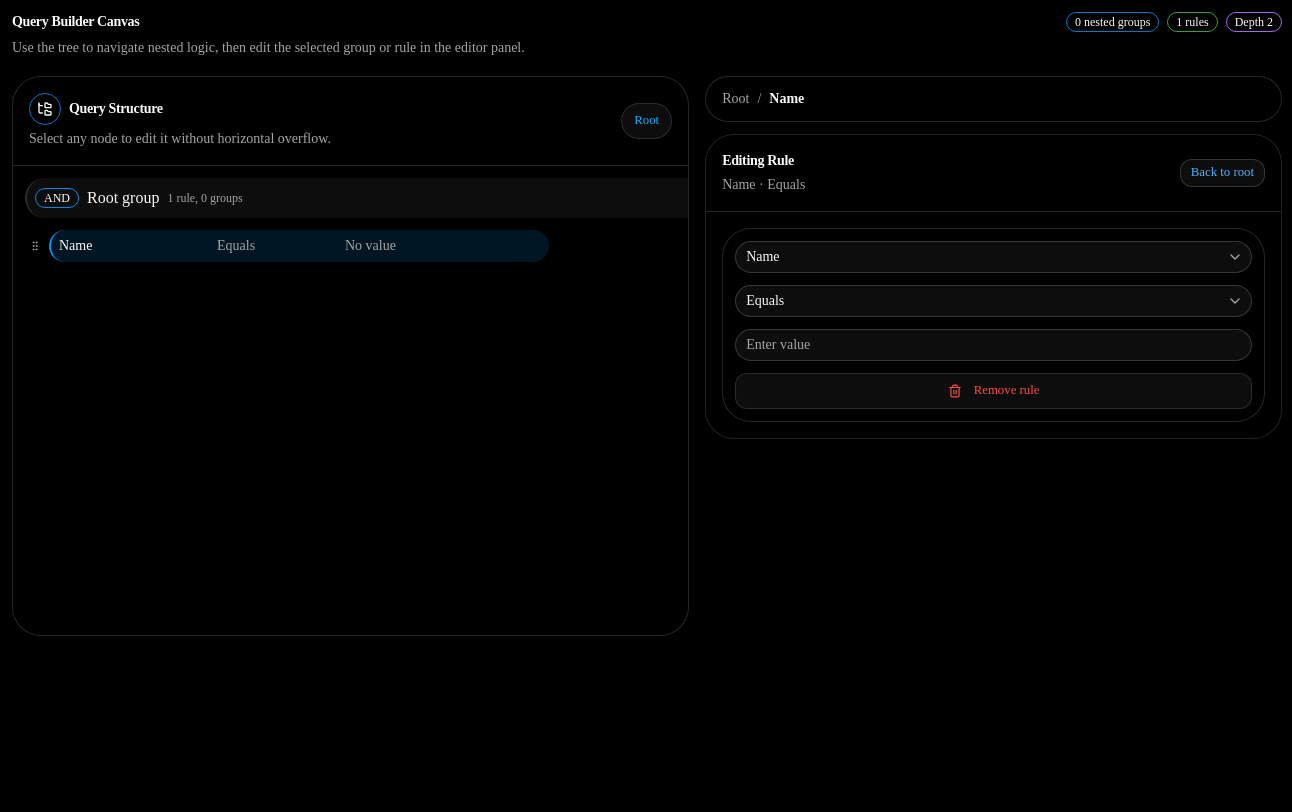
it: QueryBuilder › adds a rule through the root group action
Click the button "Back to root" at (1222, 173), box x1=1180 y1=159 x2=1265 y2=187
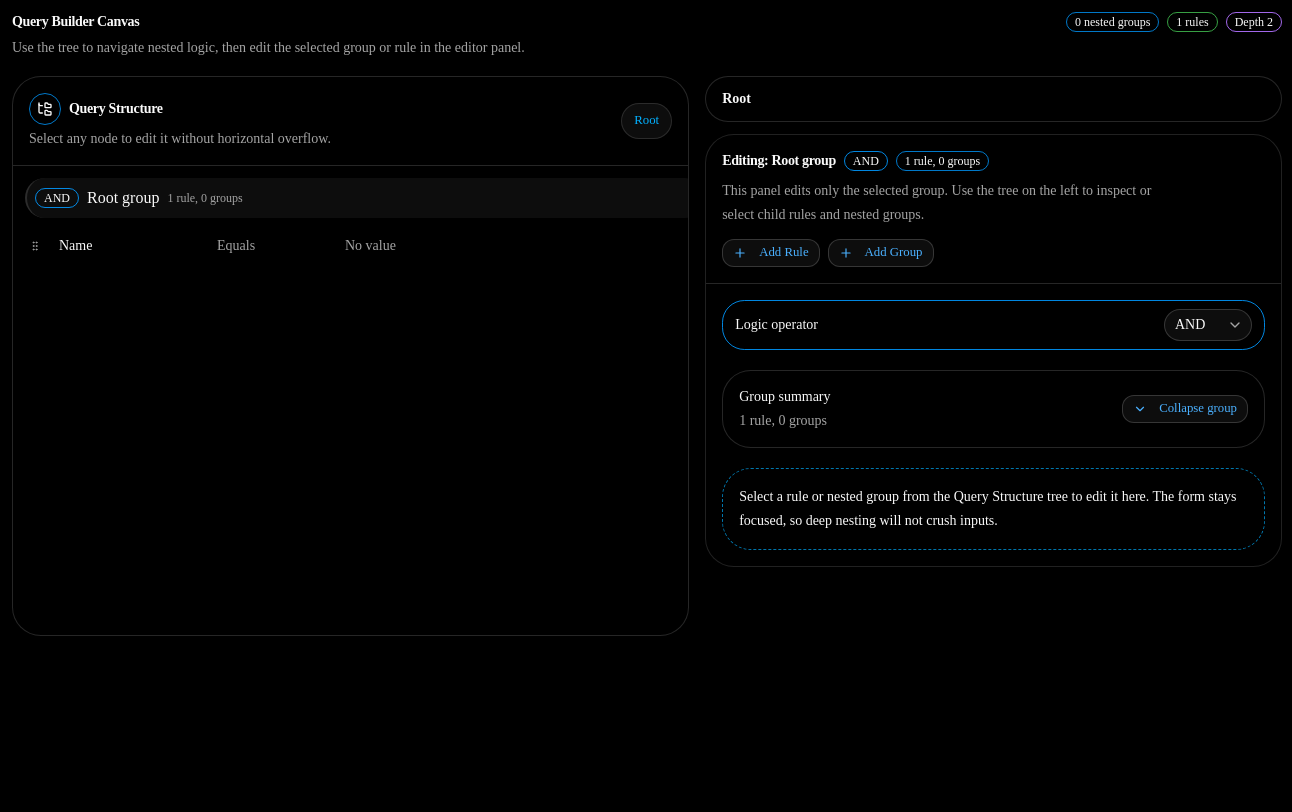
Click the button "Add Rule" at (771, 253), box x1=722 y1=239 x2=820 y2=267
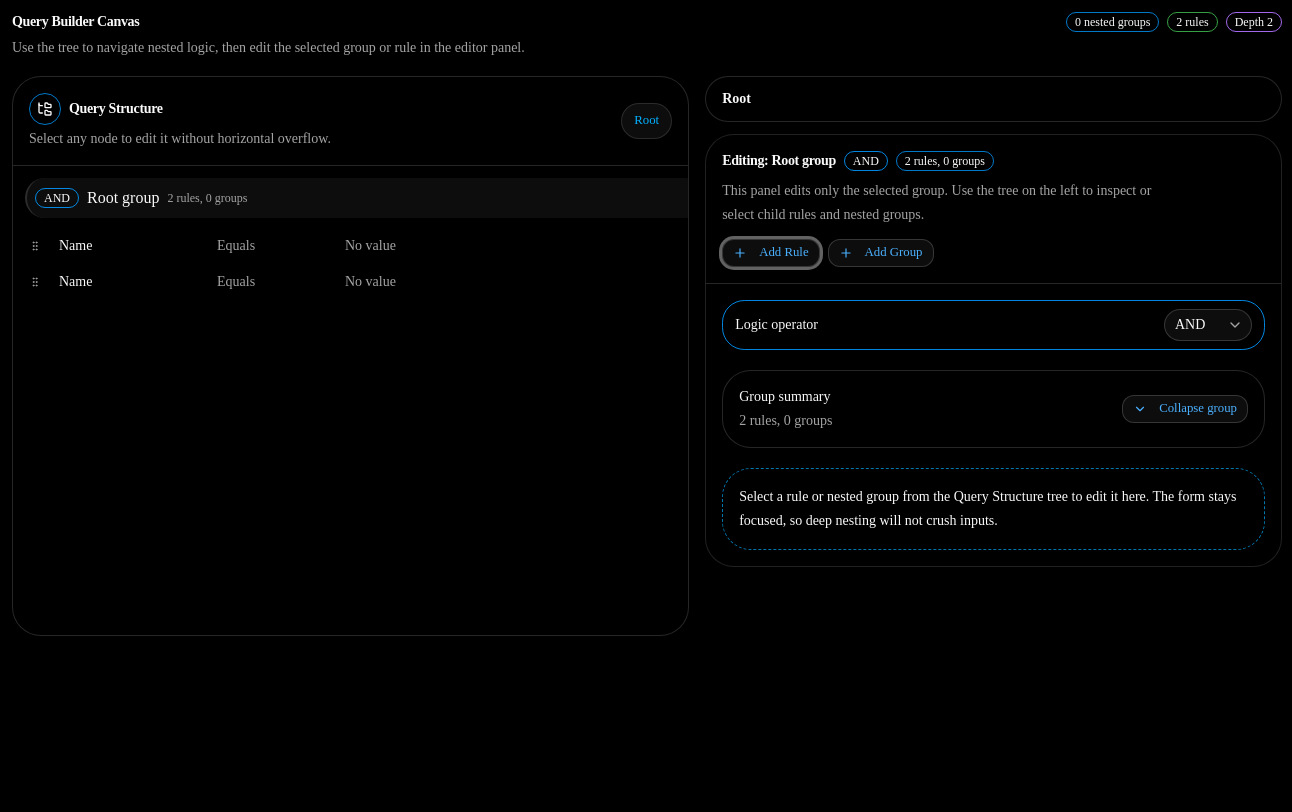
Result: the icon "2 rules" is shown at x1=1167 y1=12 x2=1218 y2=32
